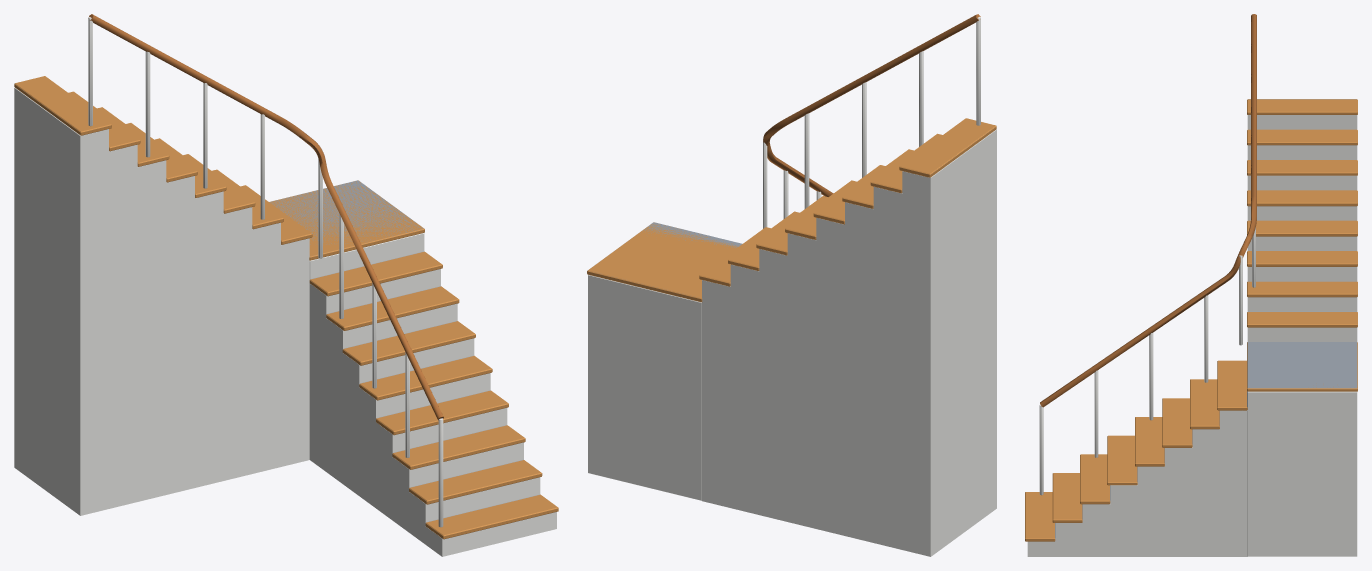
File: escada_l_esq.glb
The picture shows the model from 3 angles, left to right: view 1: azimuth 30°, elevation 25°; view 2: azimuth 150°, elevation 25°; view 3: azimuth 270°, elevation 25°; orthographic projection. The views are drawn at different scales.
Visible parts, largest first — view 1: escada_l_esq, colisao_malha; view 2: escada_l_esq, colisao_malha; view 3: escada_l_esq, colisao_malha.
Boxes of the visible parts, x1,y1,x2,y2 form: escada_l_esq: (14, 14, 558, 556); colisao_malha: (269, 180, 540, 522); escada_l_esq: (587, 14, 996, 556); colisao_malha: (595, 222, 742, 264); escada_l_esq: (1025, 14, 1357, 556); colisao_malha: (1055, 99, 1357, 537).
Bounding box in the file's own units: 3.01 × 4.12 × 3.03.
1 material, 1 textured.
